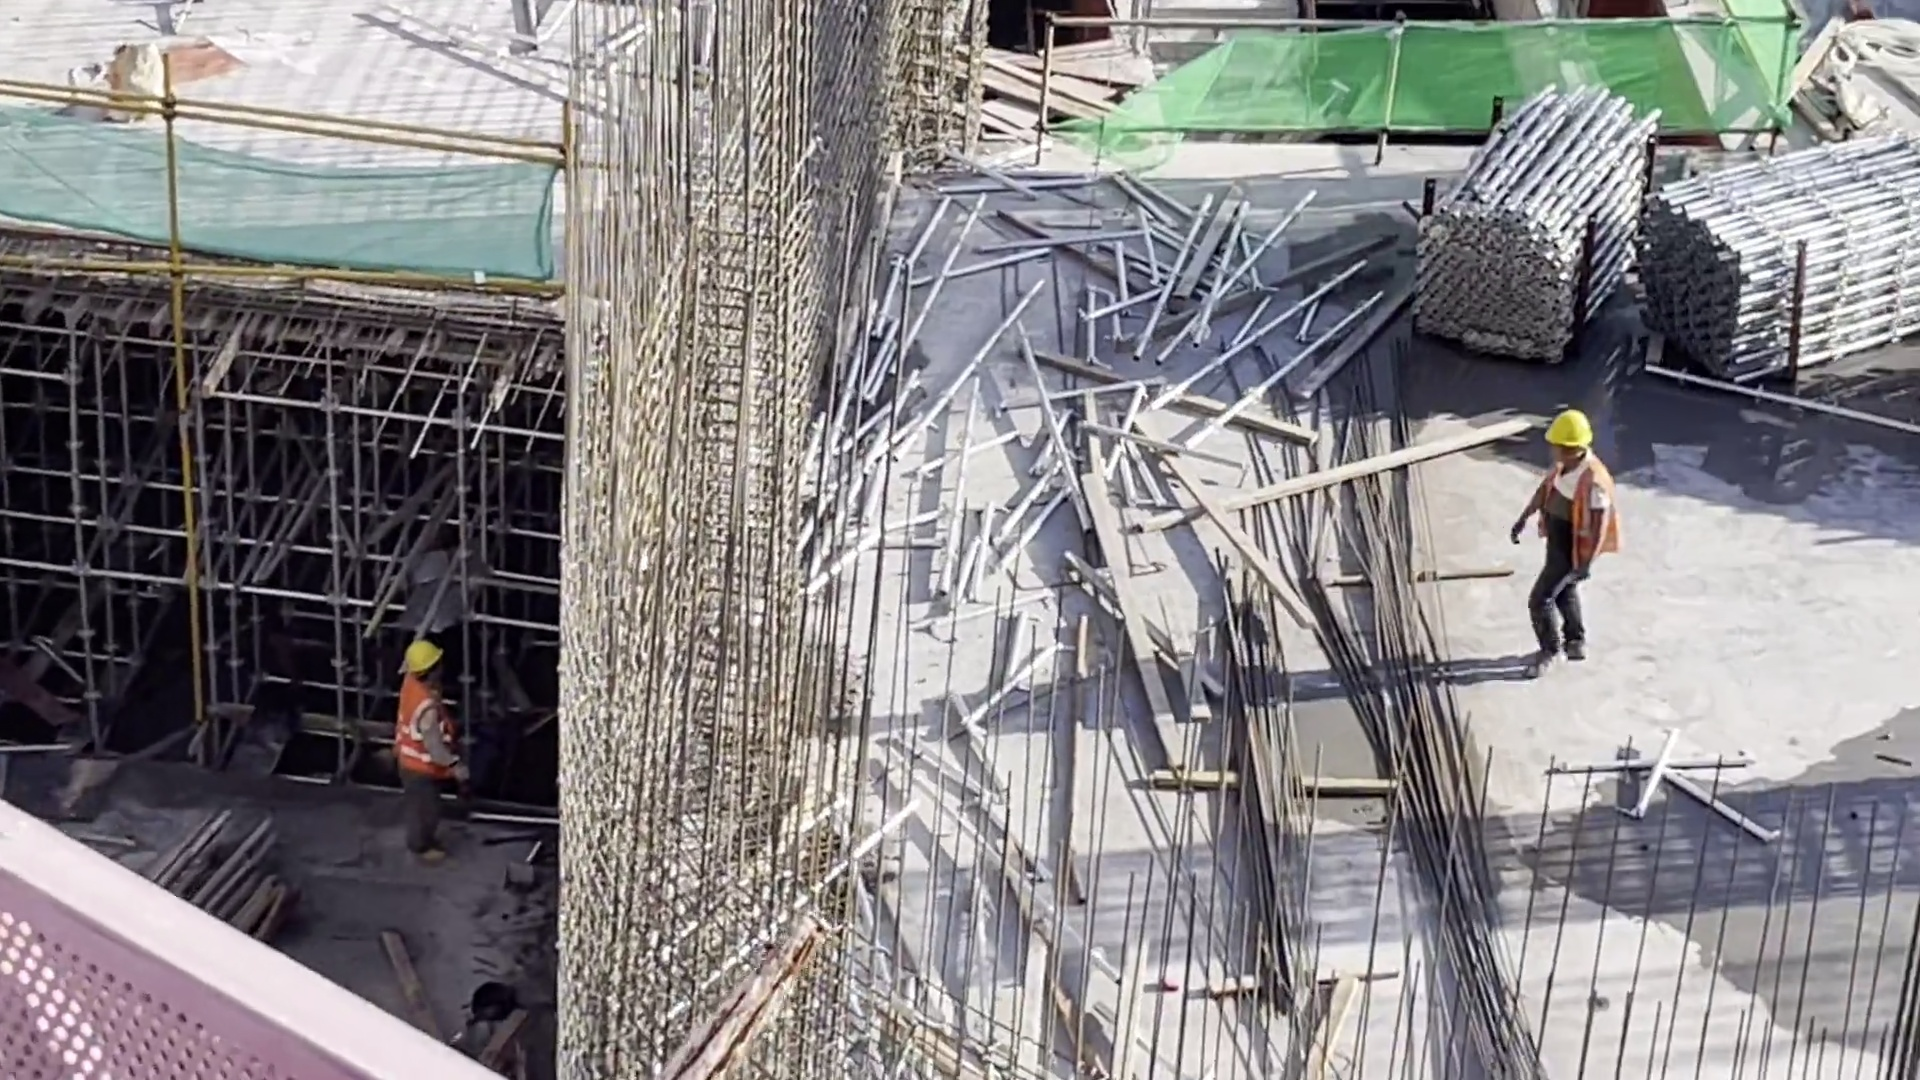fence: (6, 833, 461, 1080)
helmet: (1546, 411, 1599, 446), (398, 642, 448, 675)
person: (1516, 406, 1609, 677), (392, 640, 465, 876)
rebar: (1364, 477, 1545, 1080), (1226, 600, 1327, 995)
scaffold: (1672, 140, 1920, 374), (1407, 133, 1637, 363)
vest: (1540, 464, 1604, 565), (393, 681, 454, 772)
